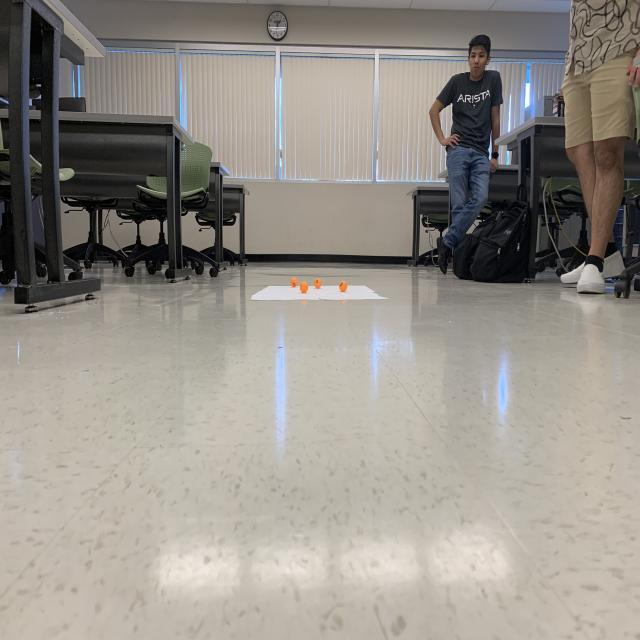ping-pong-ball: (338, 279, 348, 293), (313, 276, 322, 290), (299, 281, 309, 293), (290, 276, 298, 288)
